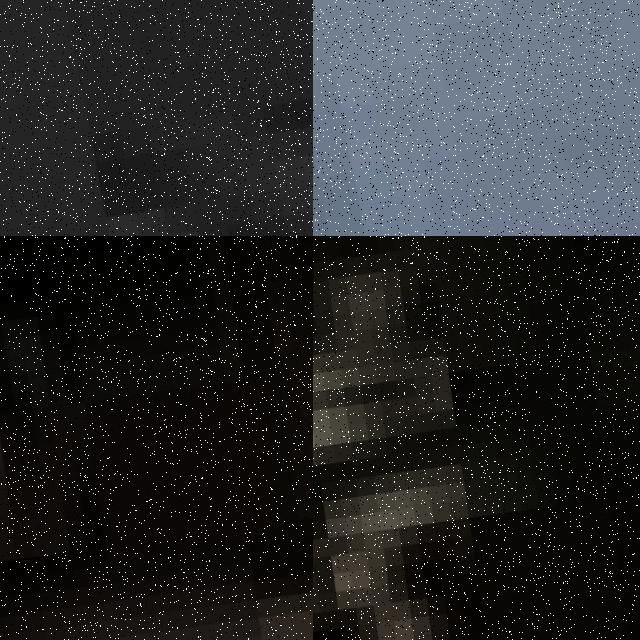0: (0, 0, 313, 236)
drone: (313, 0, 640, 236)
